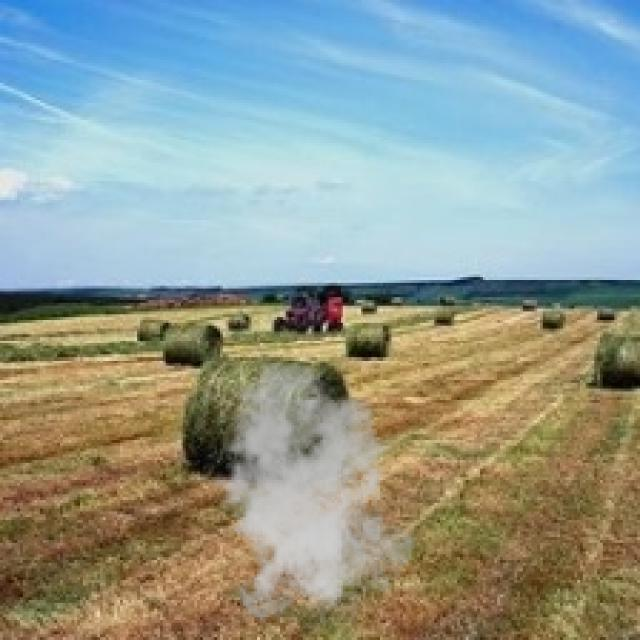smoke: (200, 360, 414, 626)
